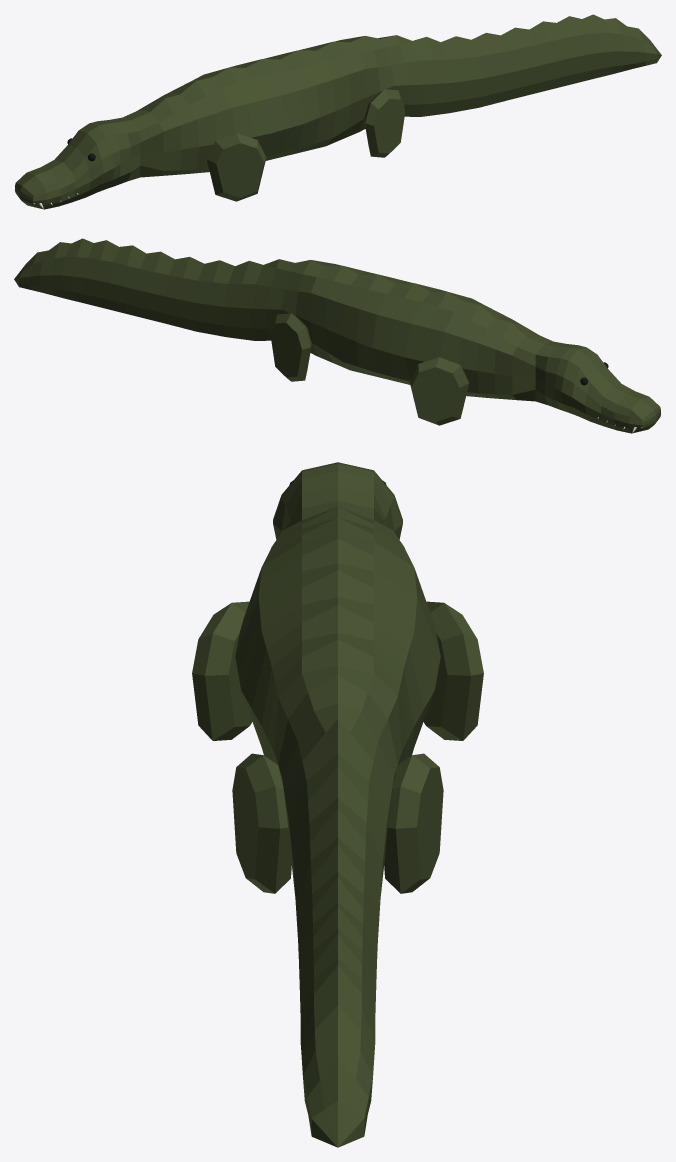
Rendered from Crocodile.fbx.
The picture shows the model from 3 angles, top to bottom: view 1: azimuth 30°, elevation 25°; view 2: azimuth 150°, elevation 25°; view 3: azimuth 270°, elevation 25°; orthographic projection. The views are drawn at different scales.
Parts seen in each view (by area): view 1: Plane, Circle, Circle.001; view 2: Plane, Circle.003, Circle.002; view 3: Plane, Circle.001, Circle.002, Circle, Circle.003.
Part boxes in pixels (left/top/right/bottom): Plane: left=15, top=14, right=661, bottom=209; Circle: left=206, top=133, right=266, bottom=201; Circle.001: left=364, top=89, right=405, bottom=157; Plane: left=14, top=238, right=660, bottom=433; Circle.003: left=409, top=357, right=469, bottom=425; Circle.002: left=270, top=313, right=311, bottom=381; Plane: left=235, top=462, right=440, bottom=1147; Circle.001: left=232, top=753, right=291, bottom=893; Circle.002: left=384, top=753, right=443, bottom=893; Circle: left=192, top=601, right=252, bottom=740; Circle.003: left=423, top=601, right=483, bottom=740.
Bounding box in the file's own units: 838 × 138 × 165.
